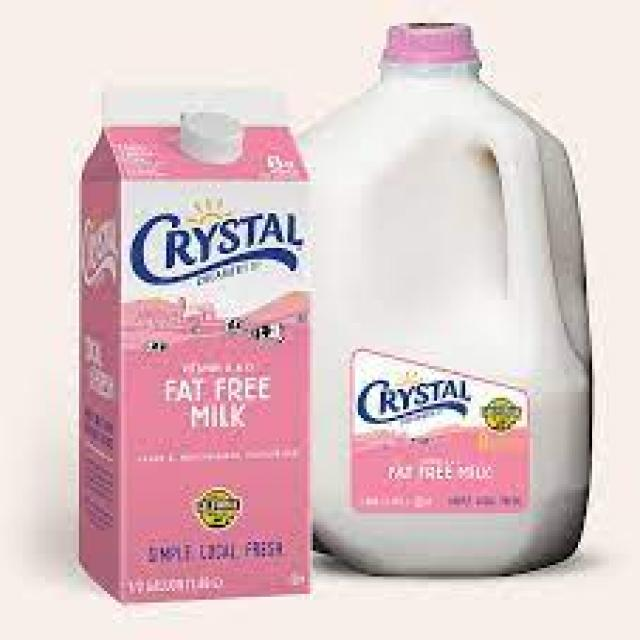non_white_jug: (52, 92, 351, 606)
